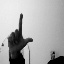l: (6, 13, 34, 53)
